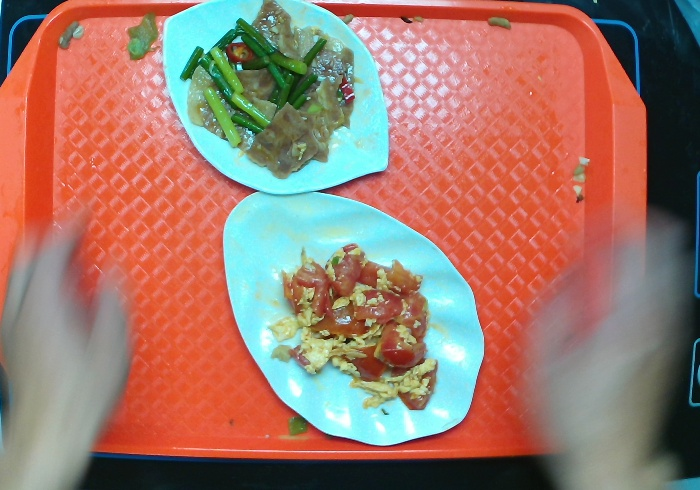RJxy-Bai_Ye_Pan: (219, 183, 489, 449)
RJxy-Da_Du_Pan: (157, 1, 399, 196)
